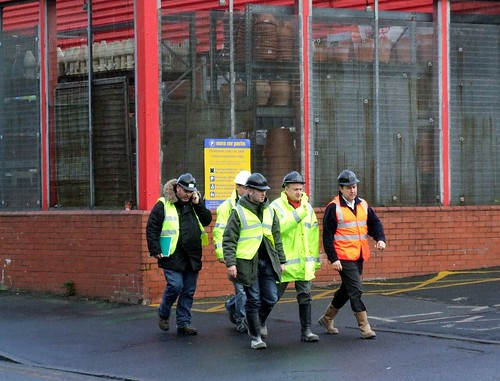person hardhat: (326, 162, 392, 345), (148, 169, 215, 340), (273, 170, 328, 345), (233, 173, 281, 352), (219, 168, 251, 331)
